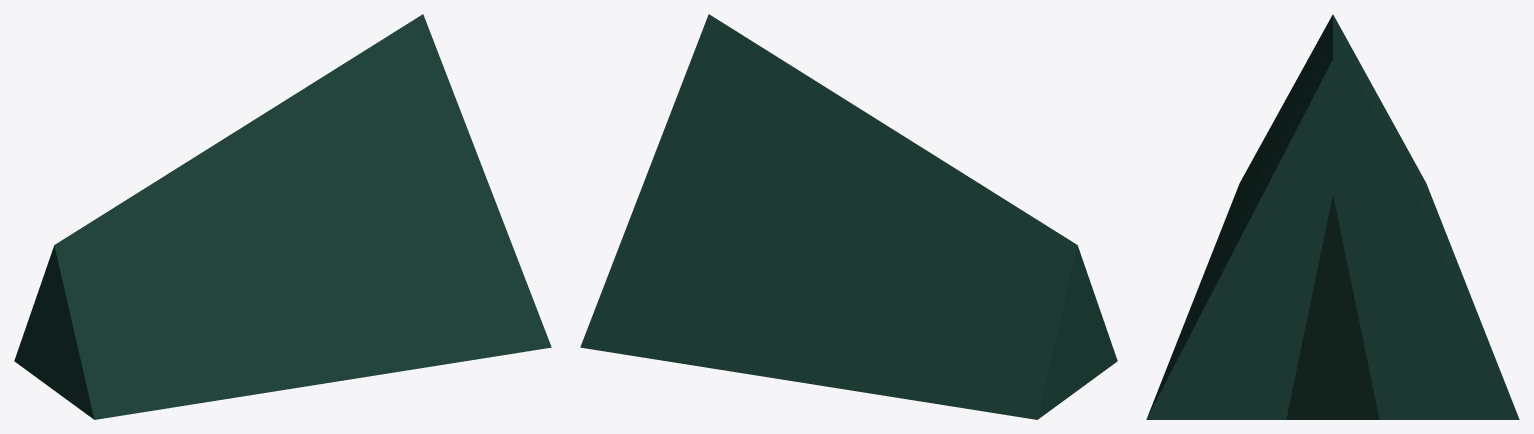
The model's file is TentObj.fbx.
The picture shows the model from 3 angles, left to right: view 1: azimuth 30°, elevation 25°; view 2: azimuth 150°, elevation 25°; view 3: azimuth 270°, elevation 25°; orthographic projection. The views are drawn at different scales.
Parts seen in each view (by area): view 1: Tent; view 2: Tent; view 3: Tent.
Part boxes in pixels (x1,y1,x2,y2): Tent: [14, 14, 551, 419]; Tent: [580, 14, 1117, 419]; Tent: [1146, 14, 1519, 419].
Bounding box in the file's own units: 1500 × 985 × 1000.
